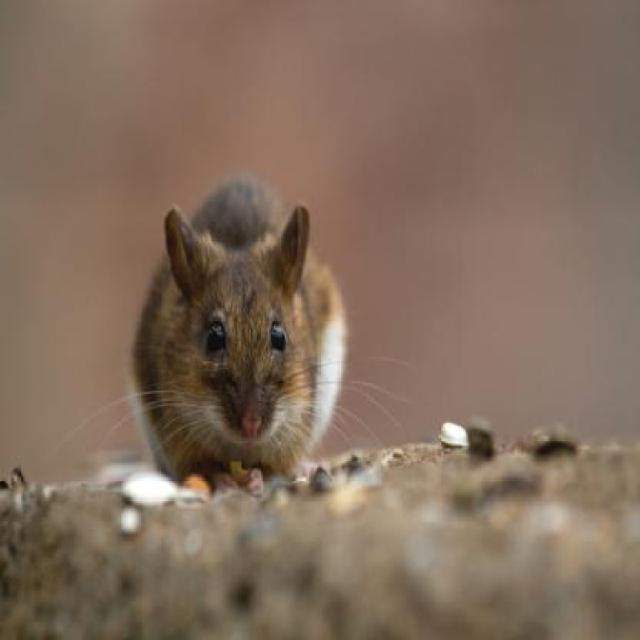Mouse: (127, 175, 357, 504)
